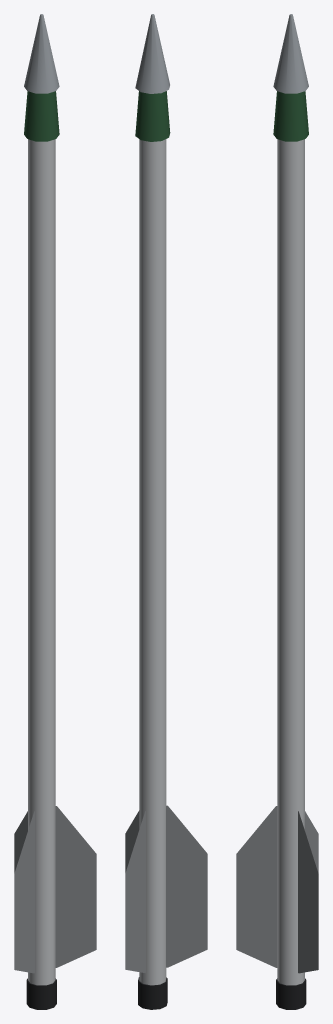
File: bolt-chelation.glb
3 renders of one model, left to right at view 1: azimuth 90°, elevation 25°; view 2: azimuth 210°, elevation 25°; view 3: azimuth 270°, elevation 25°, orthographic.
Visible parts, largest first — view 1: bolt-chelation; view 2: bolt-chelation; view 3: bolt-chelation.
Part boxes in pixels (box(x1,y1,x2,y2)): bolt-chelation: box(14, 14, 96, 1009); bolt-chelation: box(125, 14, 207, 1009); bolt-chelation: box(236, 14, 318, 1009).
Bounding box in the file's own units: 0.0288 × 0.33 × 0.0249.
Materials: 1 (1 with a texture image).
